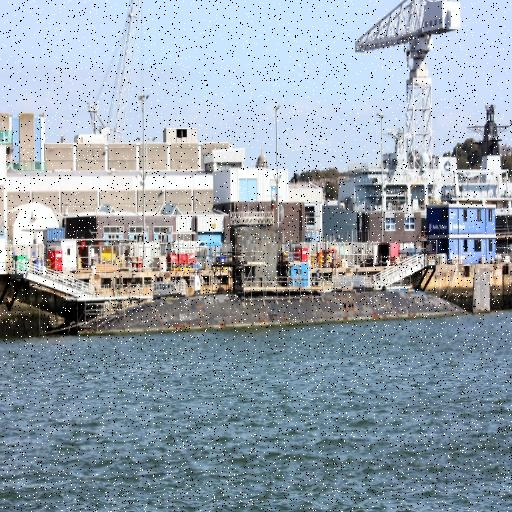submarine: (53, 219, 470, 334)
